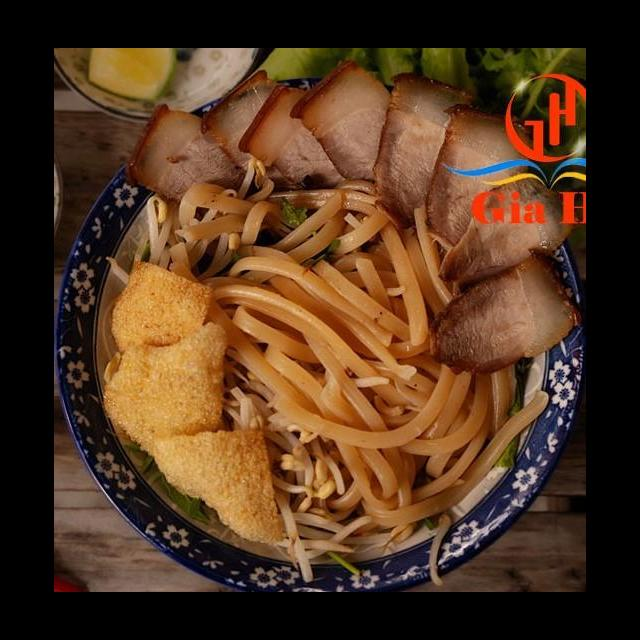banh da: (180, 93, 321, 230), (97, 142, 219, 286), (279, 100, 383, 215)
mi: (112, 250, 300, 556), (279, 162, 465, 470)
mi quang: (54, 91, 586, 589)
thit heo: (264, 427, 394, 592), (402, 370, 566, 486), (342, 438, 466, 586), (384, 422, 536, 542), (447, 285, 580, 411), (436, 194, 568, 319), (426, 116, 534, 260), (440, 234, 556, 359)
